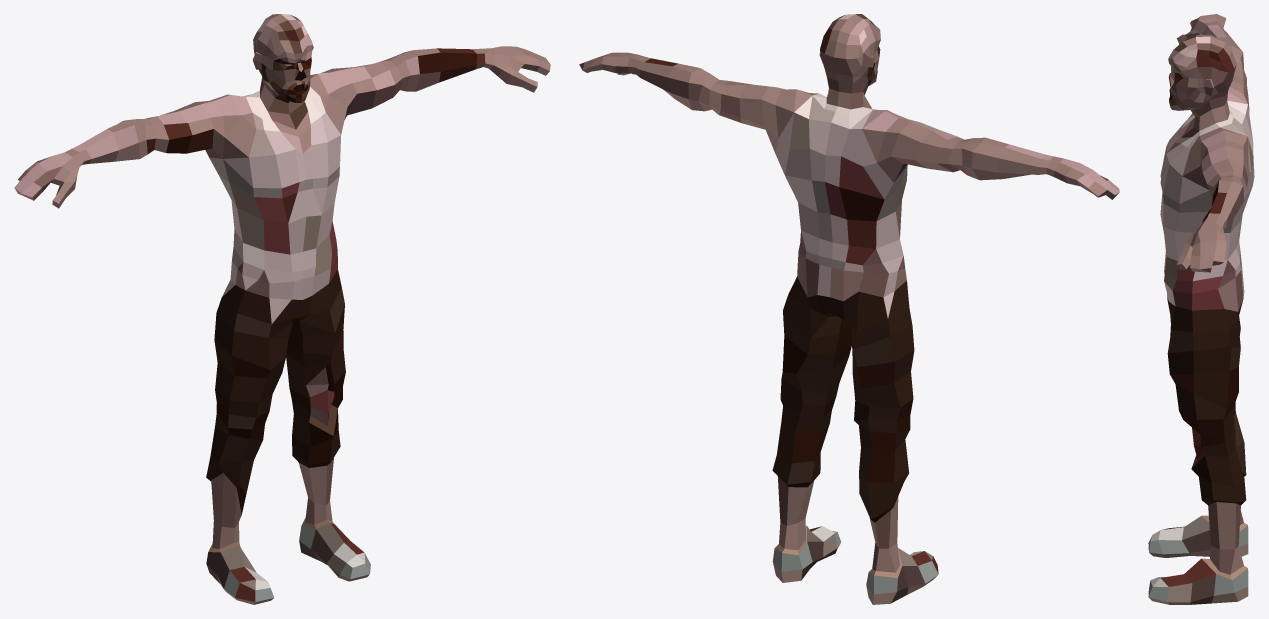
File: lpMale_zombie_C-model.fbx
3 views of the same model, side by side, from view 1: azimuth 30°, elevation 25°; view 2: azimuth 150°, elevation 25°; view 3: azimuth 270°, elevation 25° (orthographic). The views are drawn at different scales.
Visible parts, largest first — view 1: lpMale_zombie_C; view 2: lpMale_zombie_C; view 3: lpMale_zombie_C.
Part boxes in pixels (x1,y1,x2,y2): lpMale_zombie_C: [14, 14, 550, 604]; lpMale_zombie_C: [579, 14, 1119, 604]; lpMale_zombie_C: [1148, 14, 1254, 604].
Bounding box in the file's own units: 168 × 168 × 29.98.
1 material, 1 textured.
